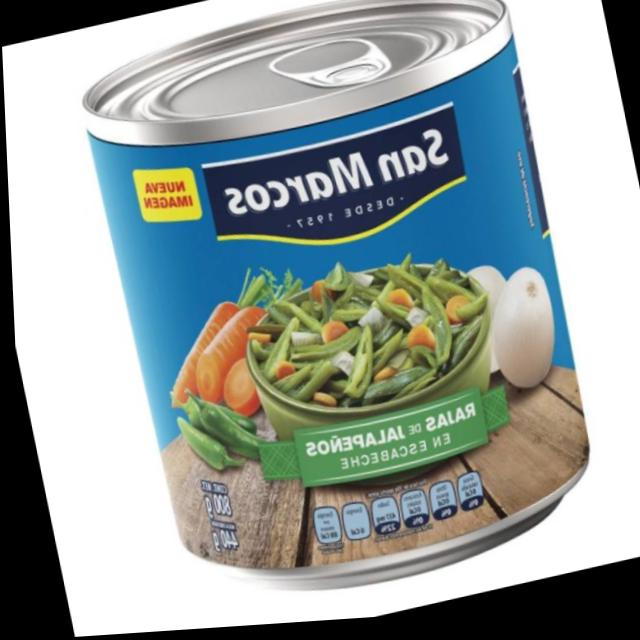Lata: (49, 0, 632, 621)
